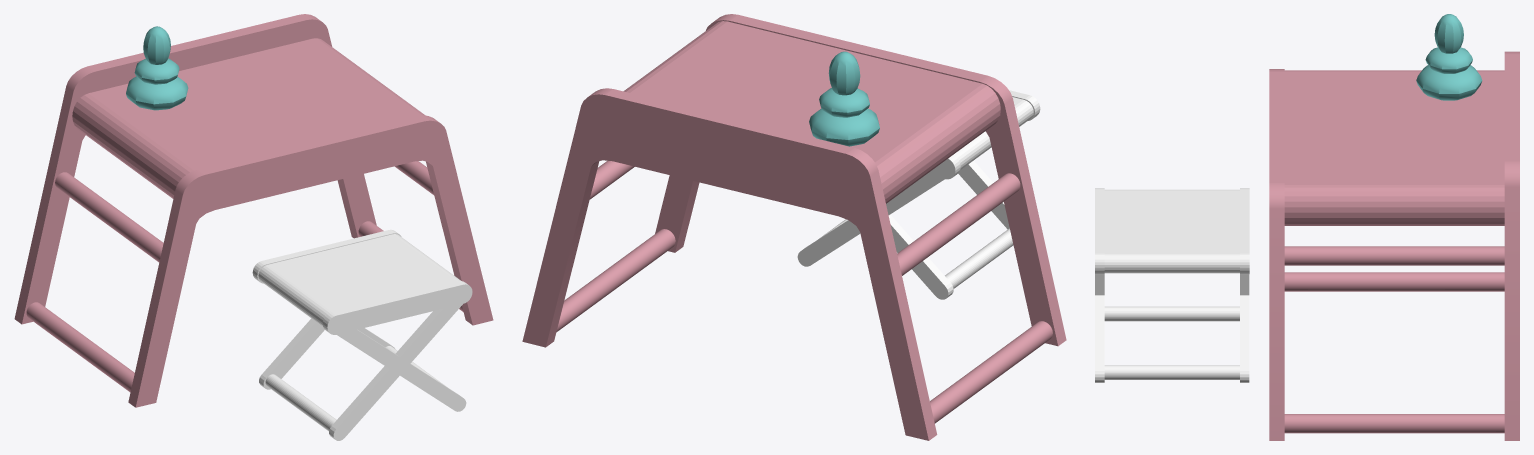
File: Furn4_worktable_color3.fbx
3 views of the same model, side by side, from view 1: azimuth 30°, elevation 25°; view 2: azimuth 150°, elevation 25°; view 3: azimuth 270°, elevation 25° (orthographic). The views are drawn at different scales.
Visible parts, largest first — view 1: Куб.250; view 2: Куб.250; view 3: Куб.250.
Part boxes in pixels (x1,y1,x2,y2): Куб.250: [14, 14, 493, 440]; Куб.250: [522, 14, 1066, 440]; Куб.250: [1095, 14, 1519, 440].
Bounding box in the file's own units: 244 × 189 × 242.
